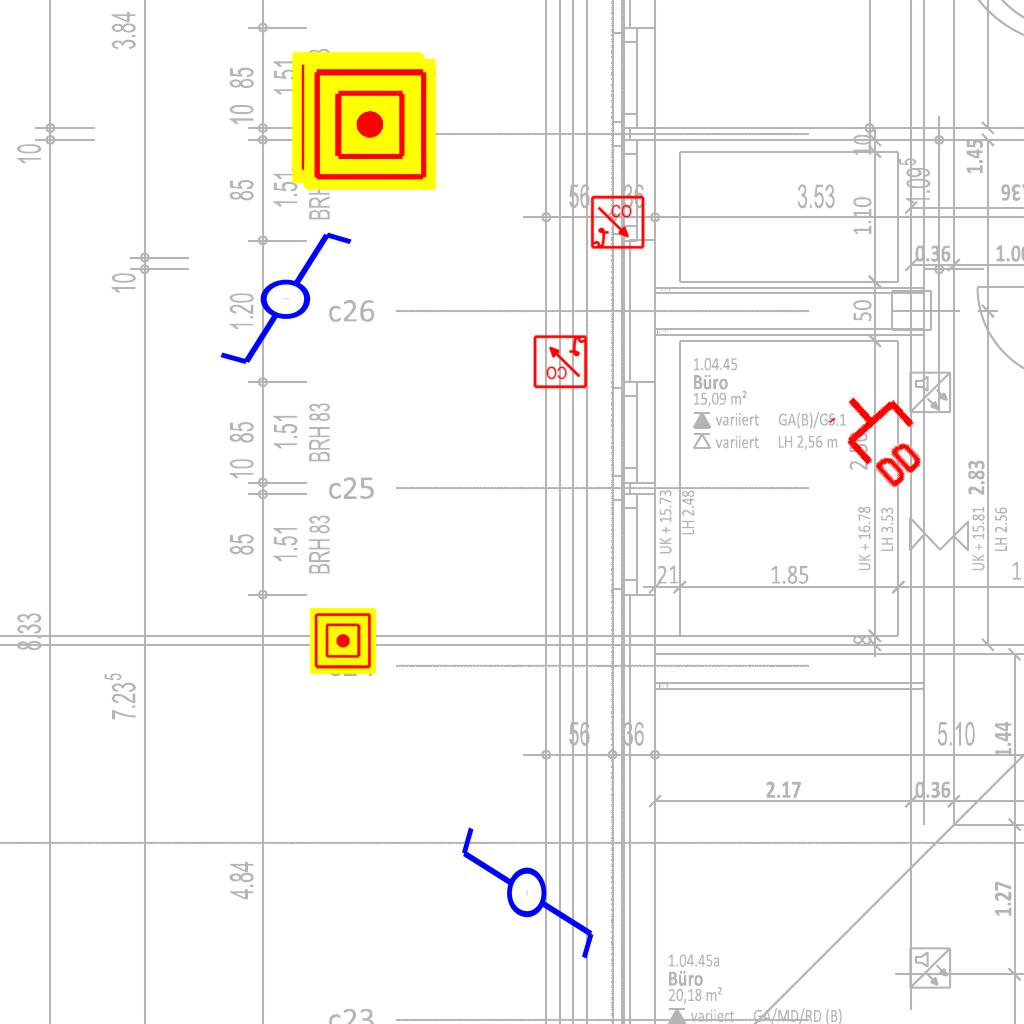Datenanschluss_zweifach: (824, 373, 945, 496)
NAM-Nichtautomatischer_Melder: (292, 52, 424, 184), (304, 58, 436, 190), (310, 608, 376, 674)
ROA_Rauchmelder_optisch_mit_Signalgeber_(Sockelsirene): (590, 195, 646, 251), (532, 333, 588, 389)
Wechselschalter: (457, 806, 601, 963), (199, 225, 356, 369)
